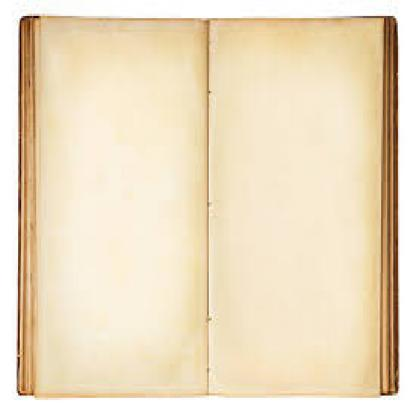paper: (18, 11, 398, 398), (206, 13, 380, 395), (35, 13, 206, 395)
